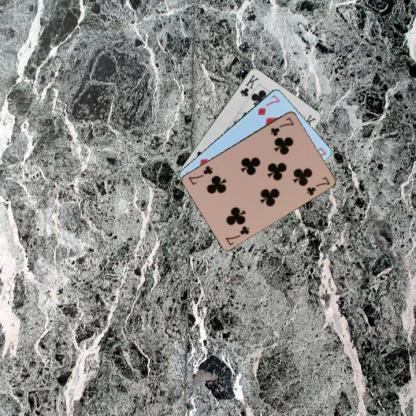7c: (223, 223, 251, 246), (268, 114, 295, 137)
7d: (255, 92, 281, 116)
Kc: (238, 72, 260, 98)
